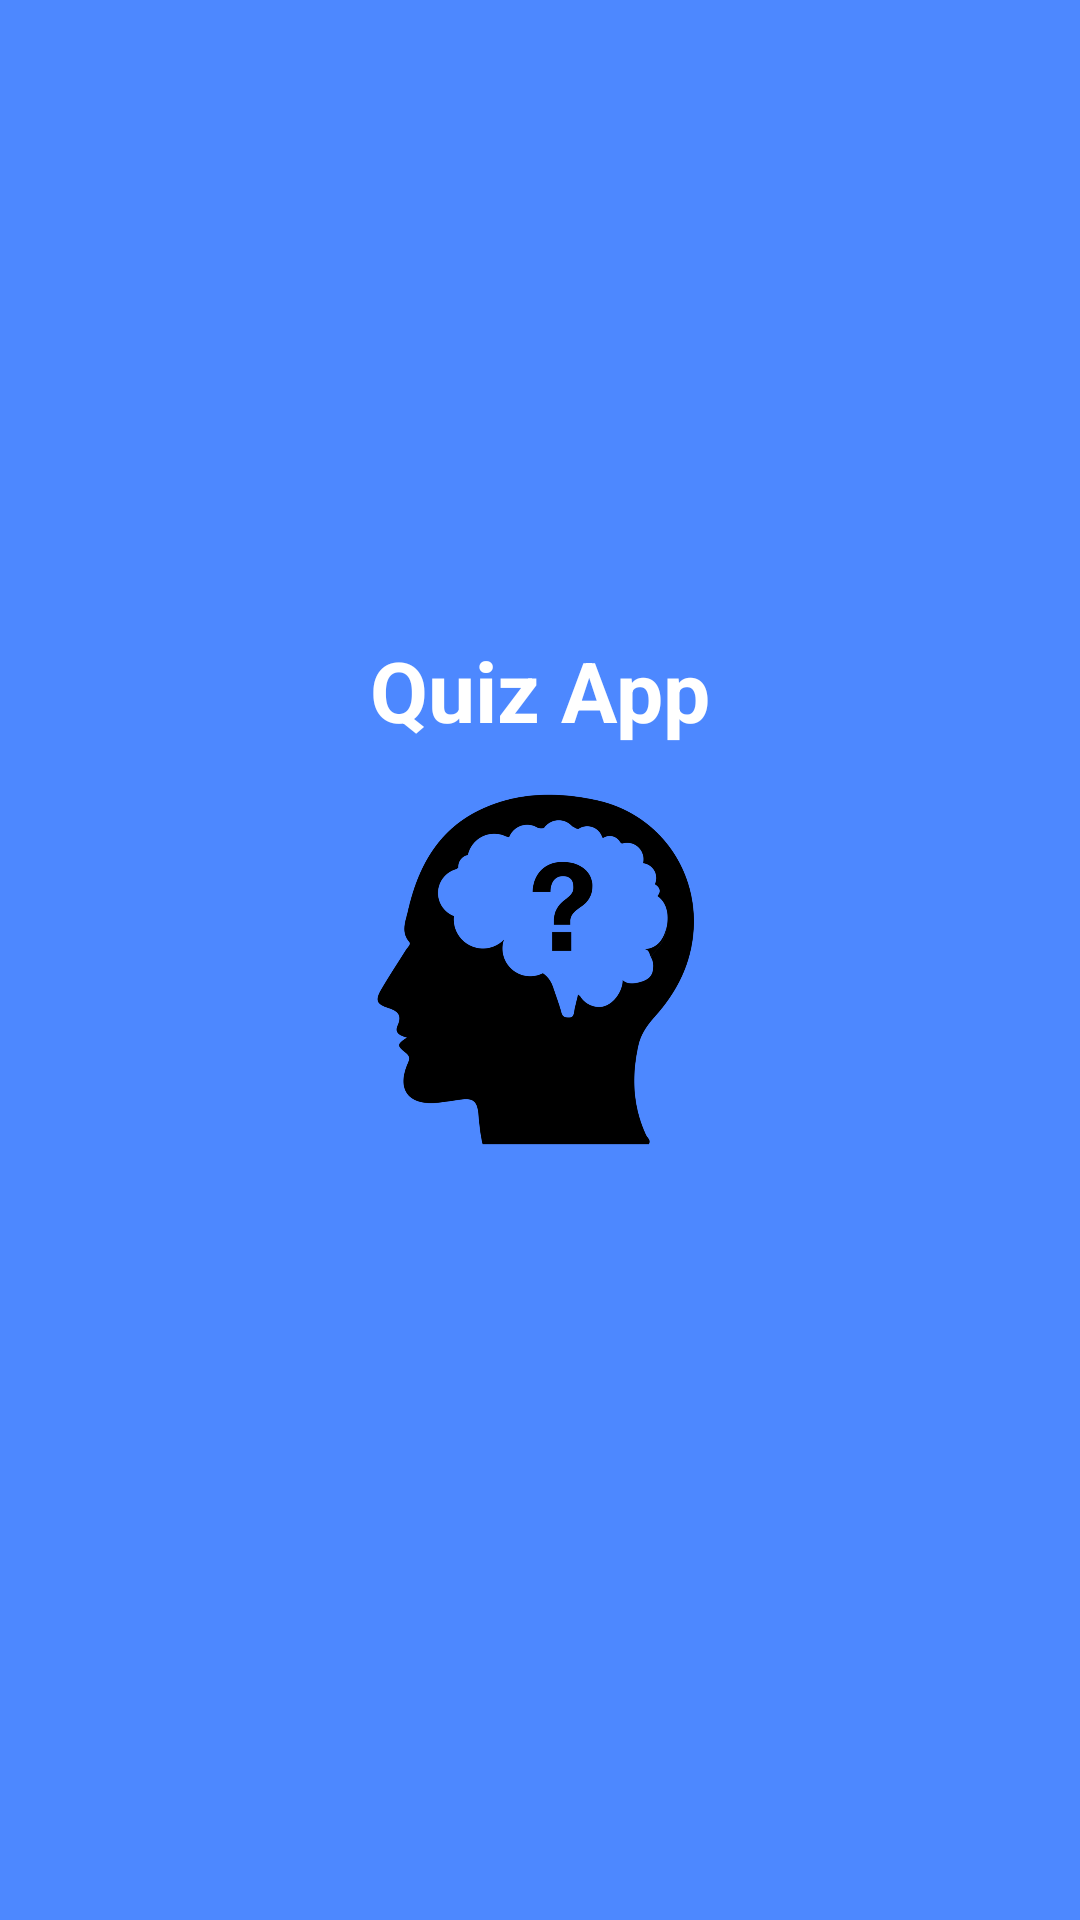

Point at icon controls on the screen. Image size 1080*1920, points as (x=x, y=y).
brain: (x=535, y=969)
